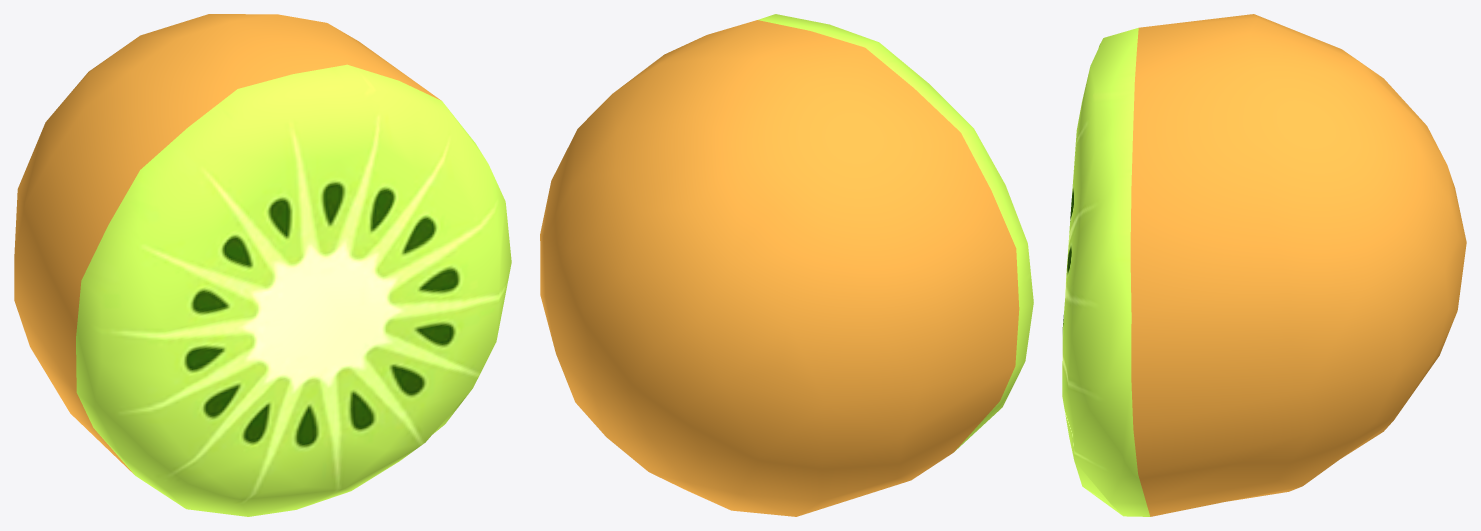
The model's file is brown_kiwi.glb.
3 views of the same model, side by side, from view 1: azimuth 30°, elevation 25°; view 2: azimuth 150°, elevation 25°; view 3: azimuth 270°, elevation 25° (orthographic).
Visible parts, largest first — view 1: Brown_Kiwi; view 2: Brown_Kiwi; view 3: Brown_Kiwi.
Boxes of the visible parts, x1=… form: Brown_Kiwi: x1=14, y1=14, x2=511, y2=516; Brown_Kiwi: x1=540, y1=14, x2=1033, y2=516; Brown_Kiwi: x1=1062, y1=14, x2=1466, y2=516.
Bounding box in the file's own units: 0.3636 × 0.3742 × 0.3002.
1 material, 1 textured.
